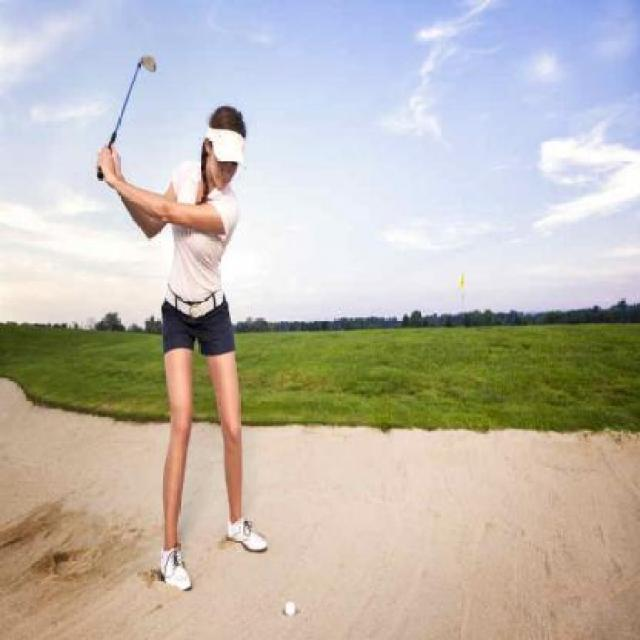club head: (137, 53, 157, 73)
